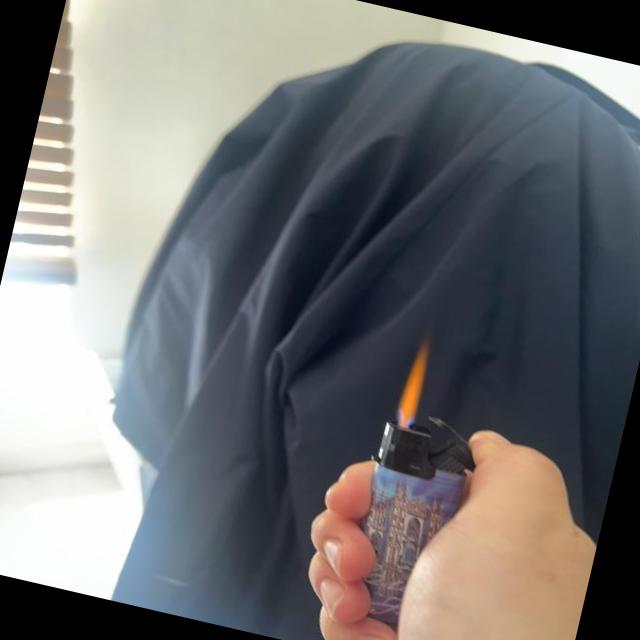Fire: (393, 338, 437, 427)
